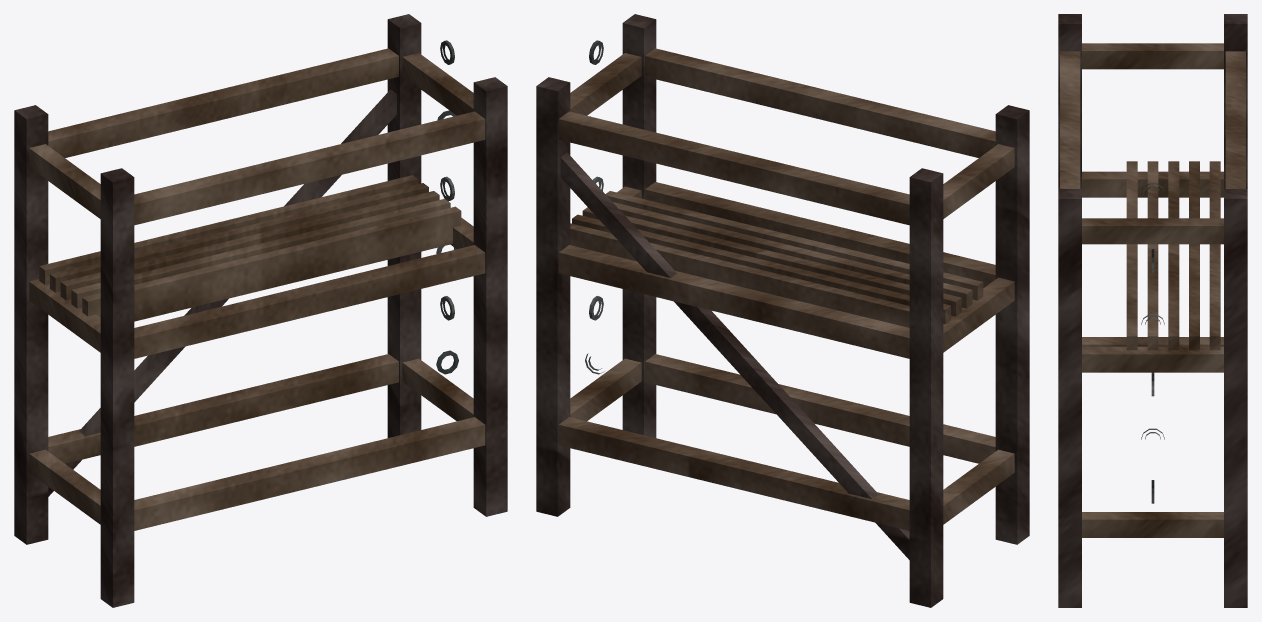
File: 0440_scaffolding_15.glb
The picture shows the model from 3 angles, left to right: view 1: azimuth 30°, elevation 25°; view 2: azimuth 150°, elevation 25°; view 3: azimuth 270°, elevation 25°; orthographic projection. The views are drawn at different scales.
Parts seen in each view (by area): view 1: wood, wood_dark, iron; view 2: wood, wood_dark, iron; view 3: wood, wood_dark, iron.
Boxes of the visible parts, x1,y1,x2,y2 form: wood: (29,48,485,530); wood_dark: (14,14,507,607); iron: (436,40,458,374); wood: (558,48,1014,530); wood_dark: (536,14,1029,607); iron: (585,40,604,374); wood: (1060,43,1245,537); wood_dark: (1058,14,1247,607); iron: (1141,183,1164,503).
Bounding box in the file's own units: 2.39 × 2.53 × 1.03.
Materials: 3 (3 with a texture image).
